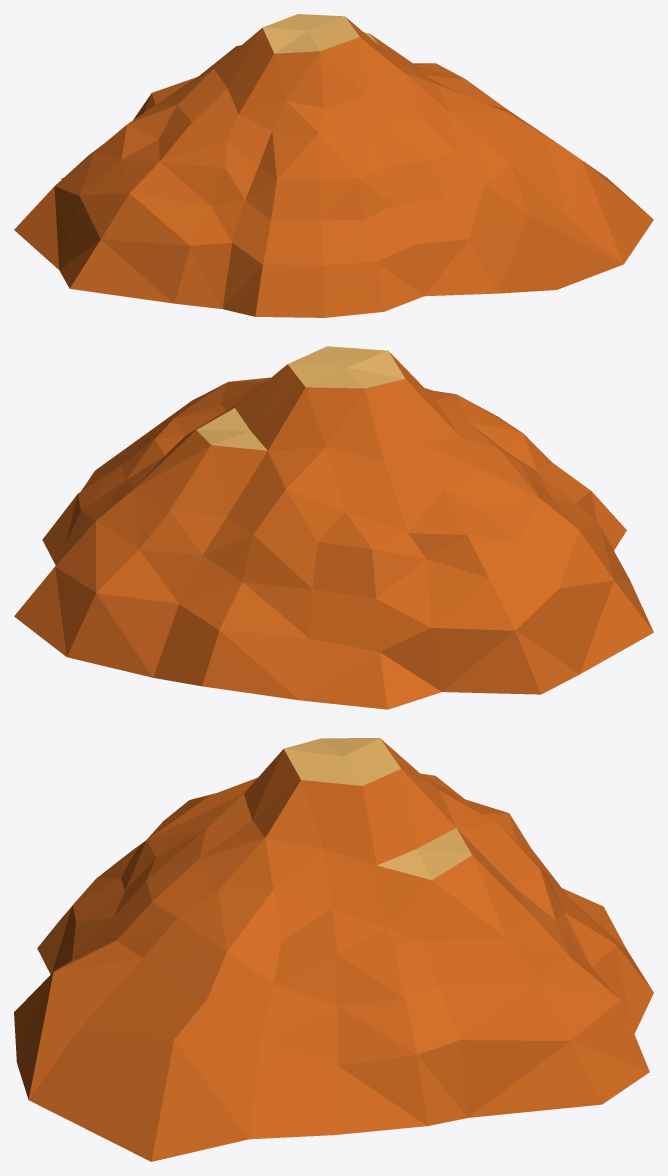
File: desert_relief_1.fbx
The picture shows the model from 3 angles, top to bottom: view 1: azimuth 30°, elevation 25°; view 2: azimuth 150°, elevation 25°; view 3: azimuth 270°, elevation 25°; orthographic projection. The views are drawn at different scales.
Visible parts, largest first — view 1: Icosphere.298; view 2: Icosphere.298; view 3: Icosphere.298.
Part boxes in pixels (bbox=[...]): Icosphere.298: bbox=[14, 14, 653, 317]; Icosphere.298: bbox=[14, 346, 653, 709]; Icosphere.298: bbox=[14, 738, 653, 1161].
Size of the model in its own units: 1106 by 408 by 949.
